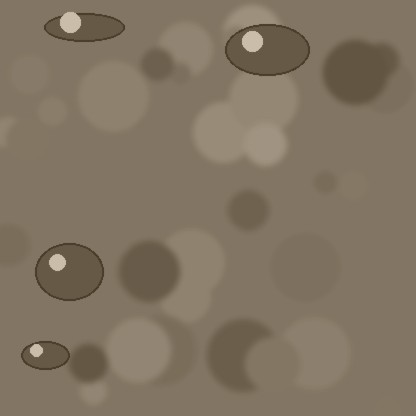gota: (225, 26, 309, 80), (35, 245, 103, 305), (44, 14, 124, 44), (21, 342, 69, 372)
